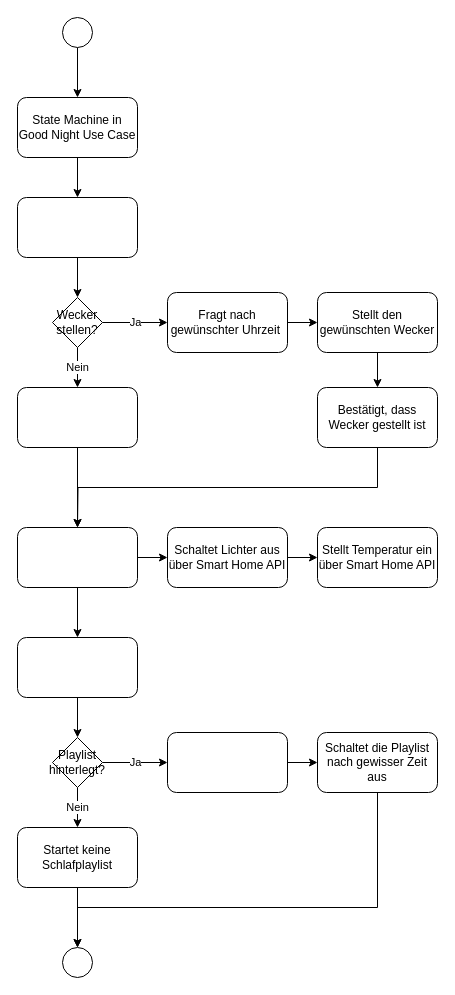
This 455x995 diagram has some shape labels left out. Each missing label, with the centre of its shape:
"Bestätigt, dass kein Wecker gestellt wird" belongs at [77,417].
"Checkt ob Spotify Playlist hinterlegt ist" belongs at [77,667].
"Fragt, ob man geweckt werden will" belongs at [77,227].
"Startet Schlafplaylist über Spotify API" belongs at [227,762].
"Wünscht Gute Nacht" belongs at [77,557].
